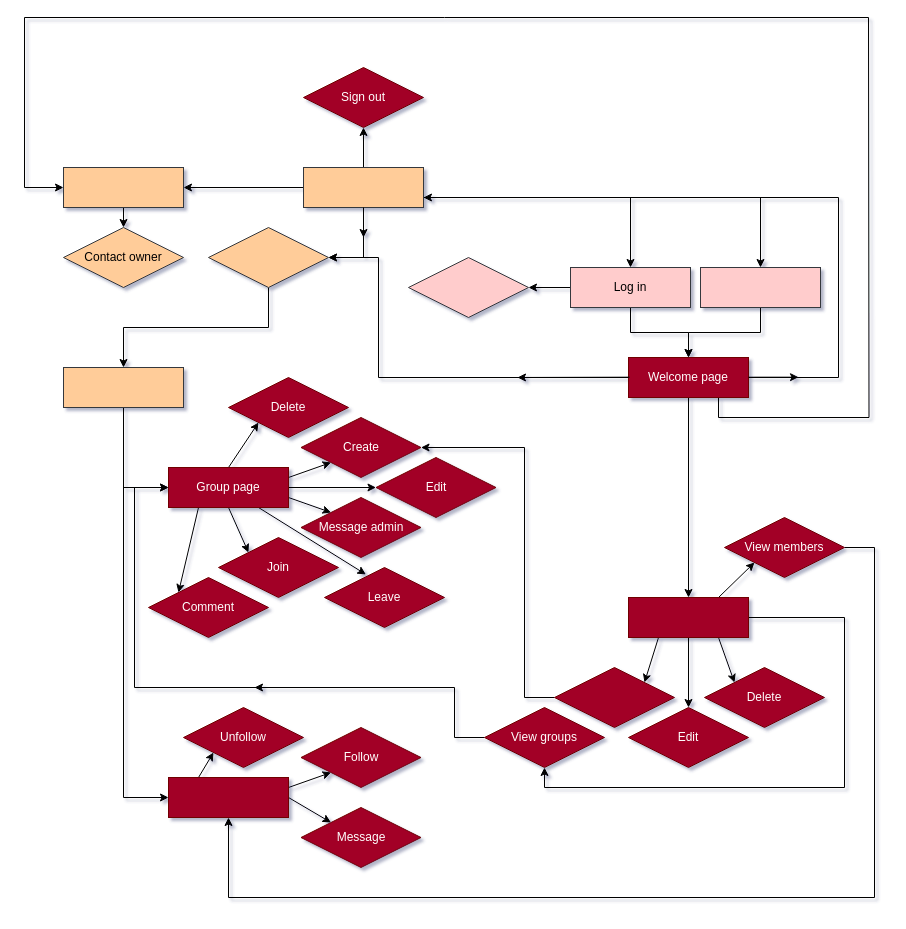
This 906x929 diagram has some shape labels left out. Here are the shapes that lost their labels. From the top down, the box of each, then its label:
(62, 166, 184, 208): Contact us
(302, 166, 424, 208): Homepage
(208, 226, 328, 288): Browse
(408, 256, 528, 318): Reset password
(700, 266, 820, 308): Sign up
(62, 366, 184, 408): All groups & members
(628, 596, 748, 638): User profile
(554, 666, 674, 728): Create group
(168, 776, 288, 818): Member profile
